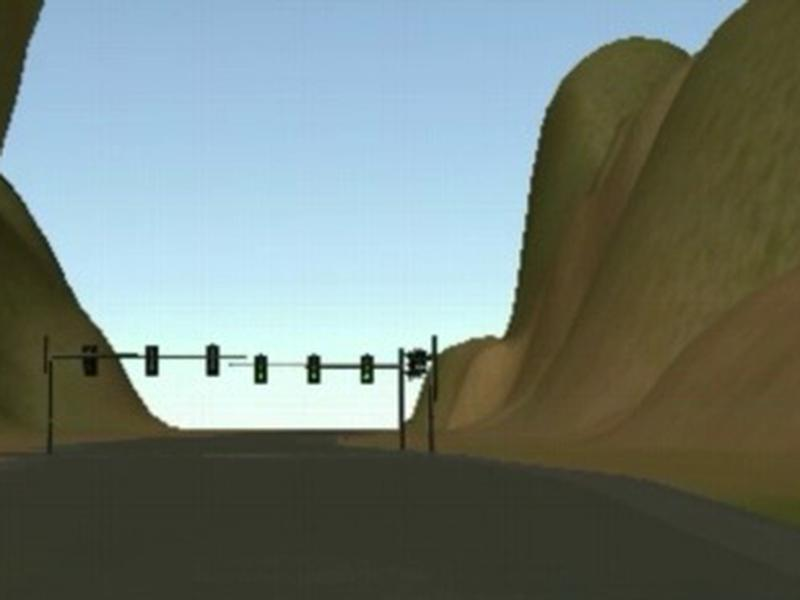Green: (254, 354, 268, 383), (307, 354, 320, 383), (360, 355, 373, 383)
